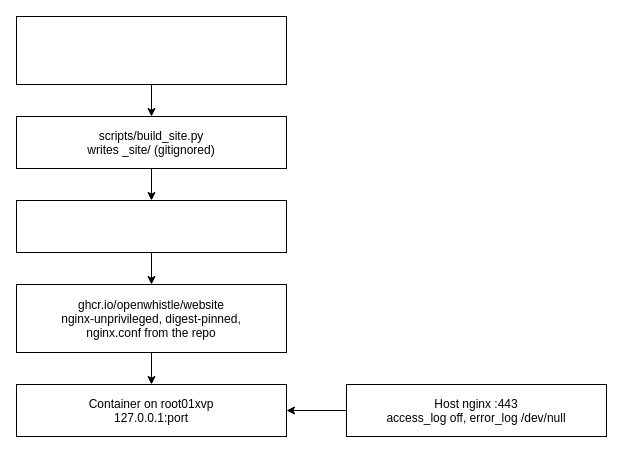
Image size: 623x453. Some labels were removed from this diagram. The centre of each missing label's shape, as x and y in pixels:
docs/: Markdown + Jinja2 layouts _data/nav.yml, i18n, config.yml, redirects.yml: the point at 151,50
Tests, Pagefind index, page budget: the point at 151,226
